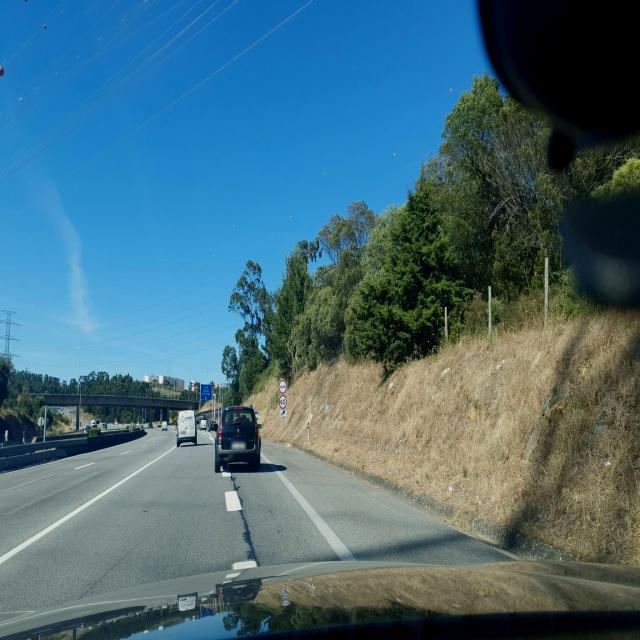car: (214, 403, 261, 473), (176, 410, 198, 446), (208, 418, 218, 433), (199, 418, 207, 430), (162, 420, 168, 430)
